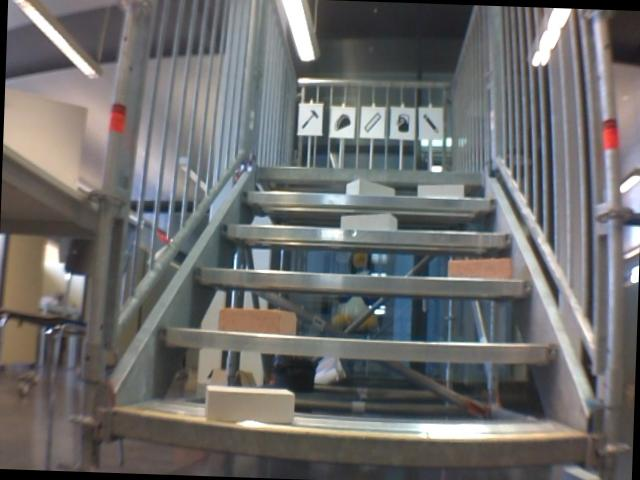brick: (205, 386, 293, 426), (219, 307, 296, 334), (448, 256, 510, 279), (340, 211, 395, 229), (344, 177, 393, 196), (418, 181, 463, 196)
bucket: (393, 110, 411, 134)
edge: (110, 410, 587, 469), (160, 326, 559, 364), (194, 267, 534, 296), (221, 223, 512, 246), (239, 189, 494, 211), (254, 163, 483, 182)
hammer: (299, 108, 318, 130)
pencil: (417, 110, 442, 136)
ruler: (361, 108, 382, 135)
steps: (102, 153, 598, 477)
taco: (331, 110, 352, 135)
